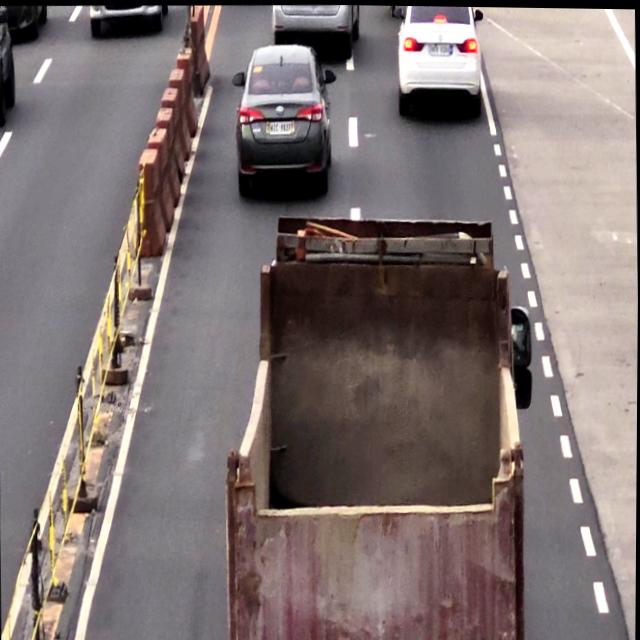Car: (239, 43, 328, 184), (398, 5, 482, 114)
License-Plate: (266, 115, 293, 133), (429, 42, 452, 57)
Truck: (242, 216, 529, 640)
